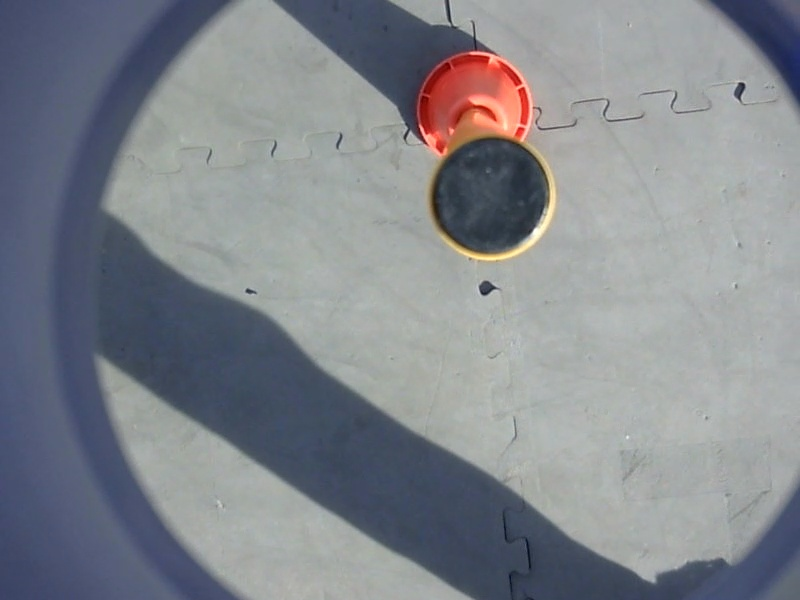tip: (420, 132, 561, 268)
